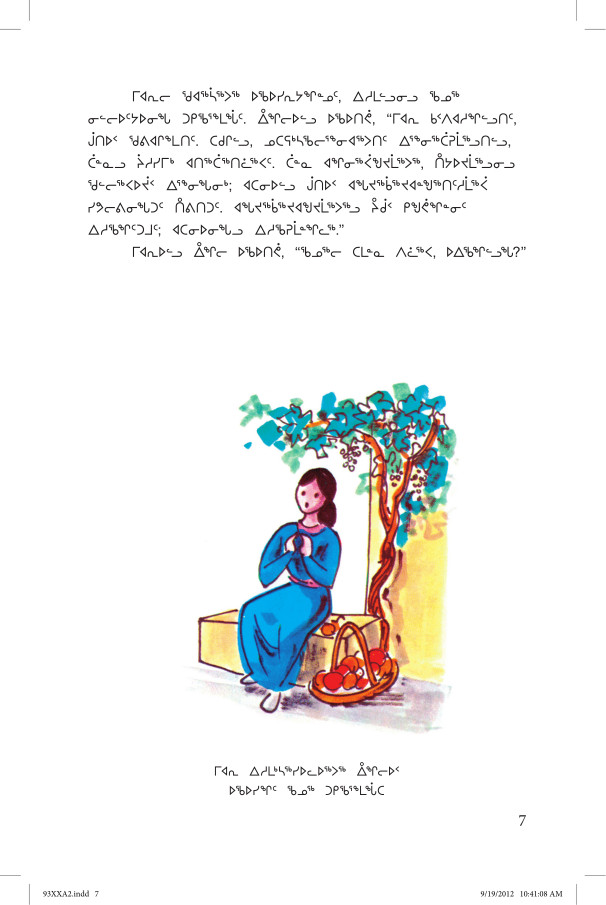inuktitut: (76, 79, 532, 267), (205, 757, 405, 802)
